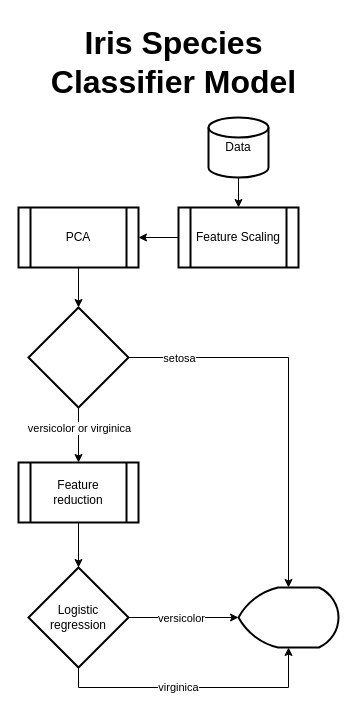
Some shapes in this 356 by 713 pixel diagram are drawn without their labels. The centre of each missing label's shape, as x and y in pixels:
"Output prediction" goes at (288,617).
"SVM" goes at (78,357).
